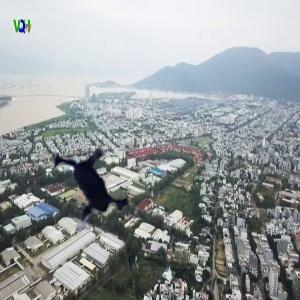drone: (23, 125, 154, 256)
